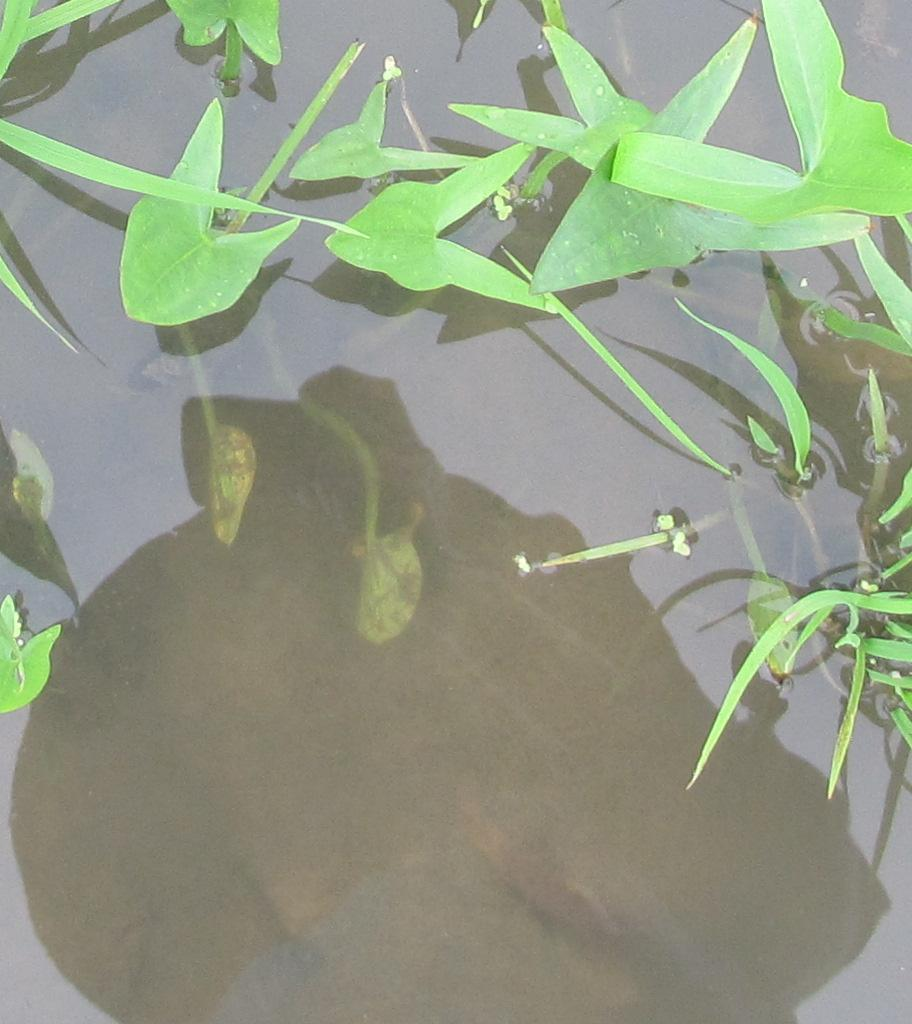Weed: (533, 44, 908, 275), (297, 89, 496, 303), (110, 105, 278, 330)
